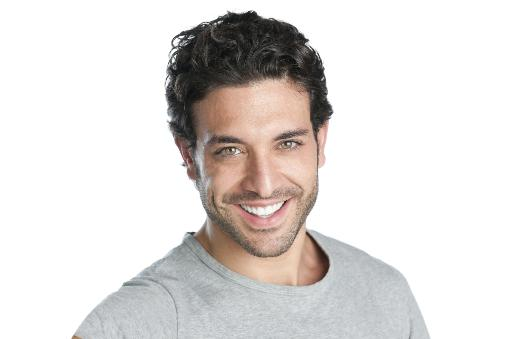left_eye: (274, 139, 307, 152)
left_lip_corner: (284, 195, 299, 204)
right_eye: (213, 145, 247, 159)
right_lip_corner: (228, 200, 242, 210)
